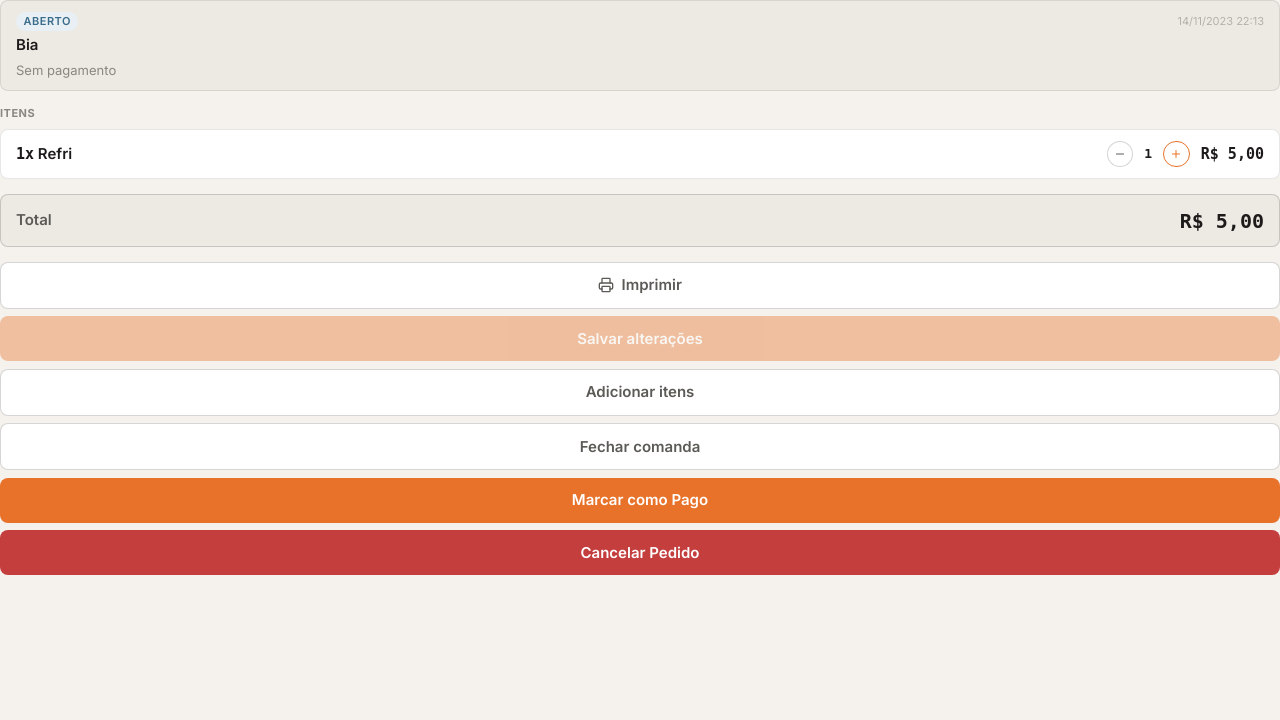
Scenario: OrderDetail › pede confirmação ao zerar a quantidade
Click the button named "Diminuir".
click(1120, 154)  # box x1=1107 y1=141 x2=1133 y2=167
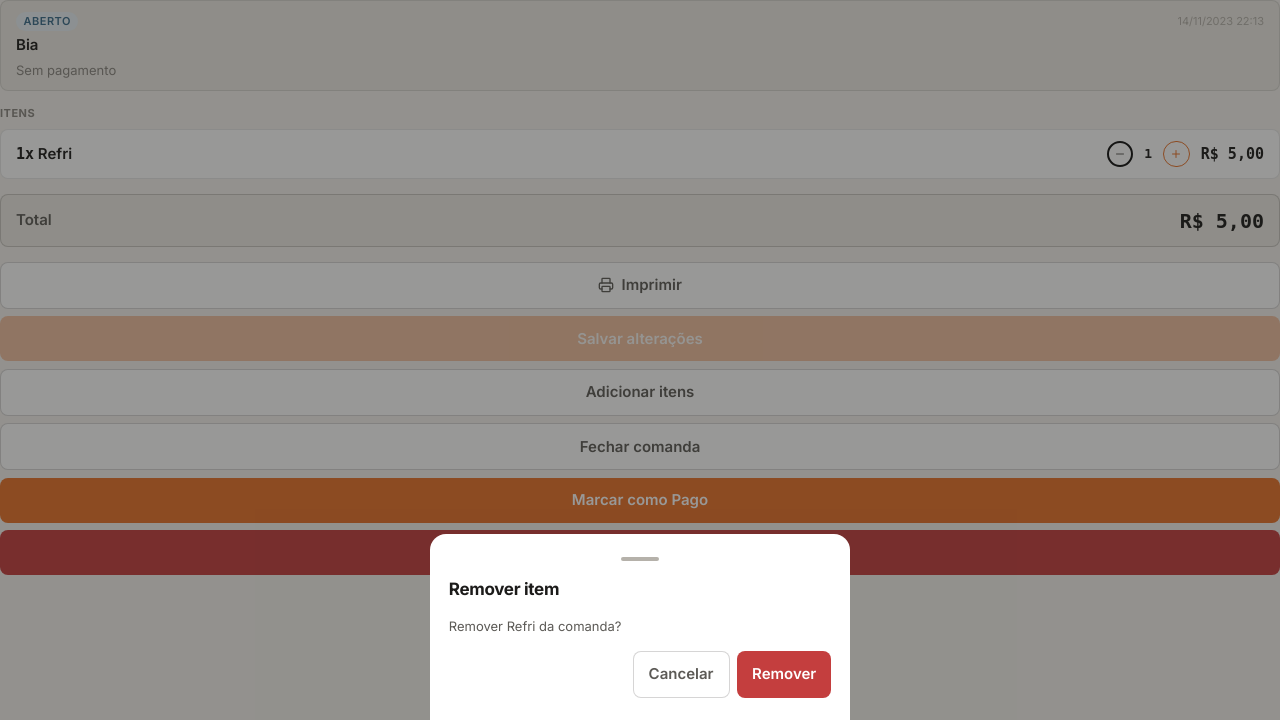
Now the text "Remover Refri da comanda?" is shown, box x1=449 y1=618 x2=622 y2=634
